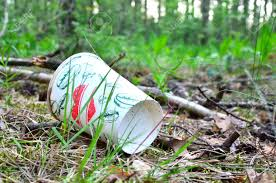paper_cup: (46, 51, 164, 158)
